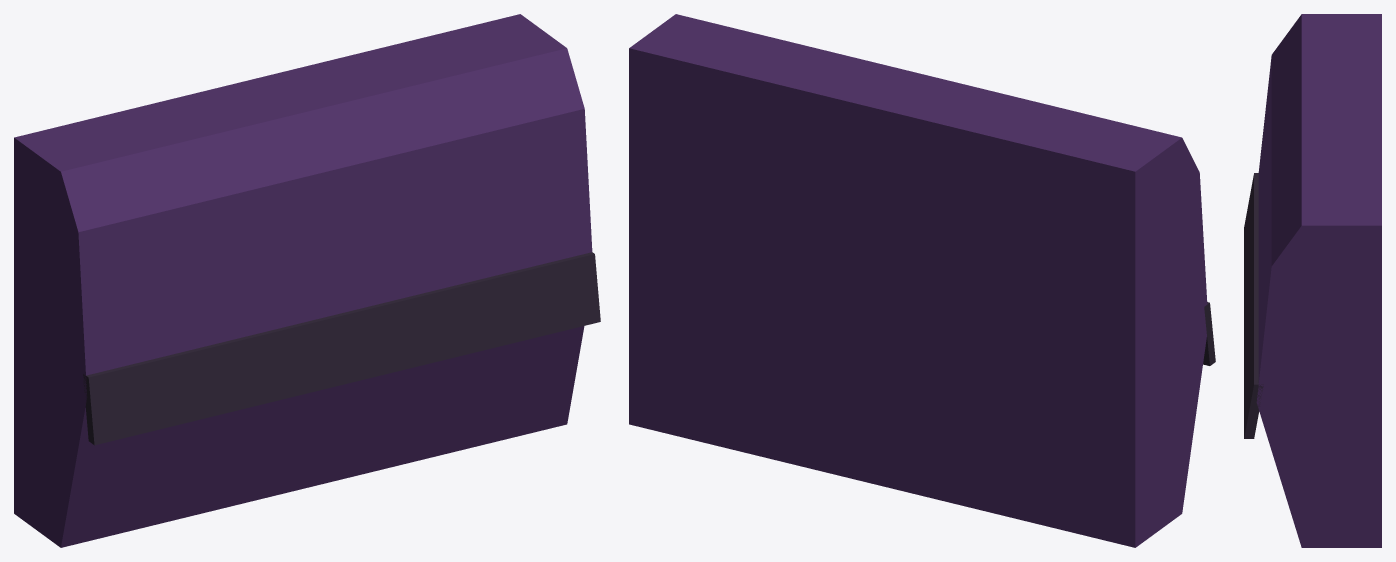
File: SM_SB_Kit_AlienRampEdge.fbx
3 views of the same model, side by side, from view 1: azimuth 30°, elevation 25°; view 2: azimuth 150°, elevation 25°; view 3: azimuth 270°, elevation 25° (orthographic). The views are drawn at different scales.
Parts seen in each view (by area): view 1: SM_SB_Kit_AlienRampEdge; view 2: SM_SB_Kit_AlienRampEdge; view 3: SM_SB_Kit_AlienRampEdge.
Boxes of the visible parts, x1,y1,x2,y2 form: SM_SB_Kit_AlienRampEdge: (14, 14, 600, 547); SM_SB_Kit_AlienRampEdge: (629, 14, 1215, 547); SM_SB_Kit_AlienRampEdge: (1244, 14, 1381, 547).
Size of the model in its own units: 100 by 27.5 by 71.
